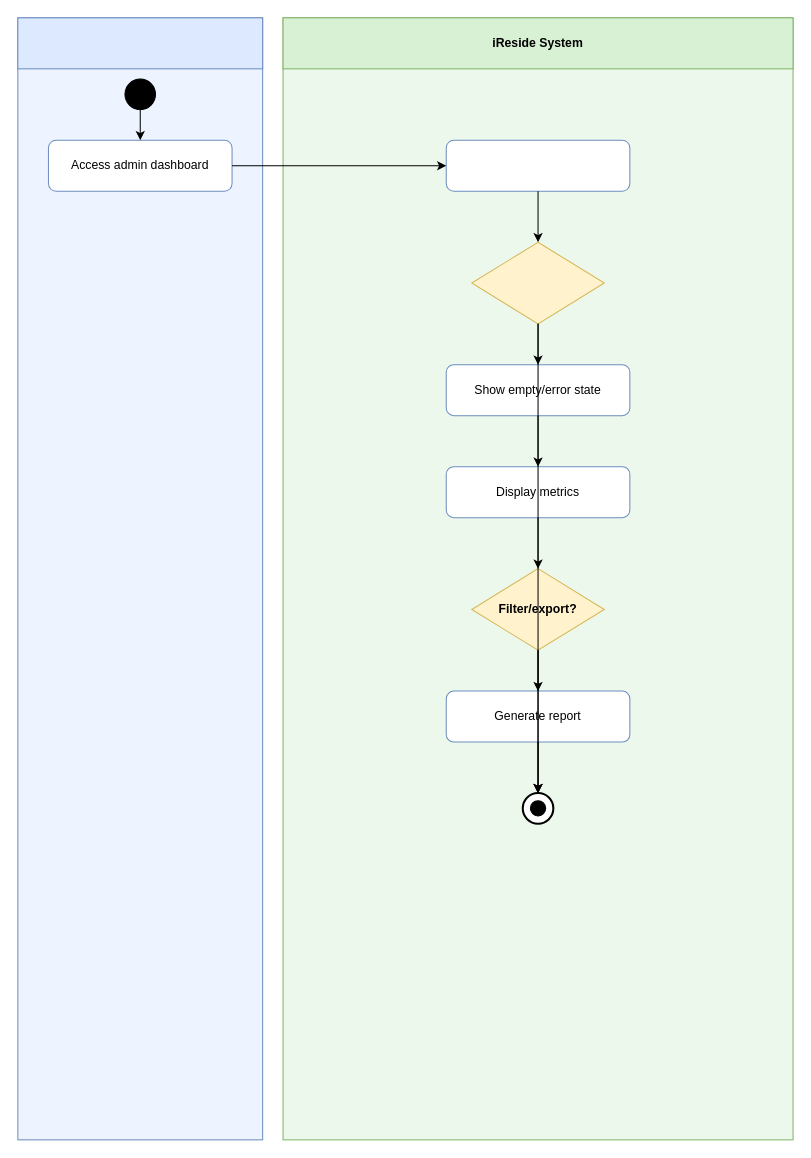
This 811x1158 diagram has some shape labels left out. Here are the shapes that lost their labels. From the top down, the box of each, then its label:
(17, 17, 263, 69): Super Admin
(445, 139, 630, 191): Retrieve platform metrics
(471, 241, 604, 324): Data available?
